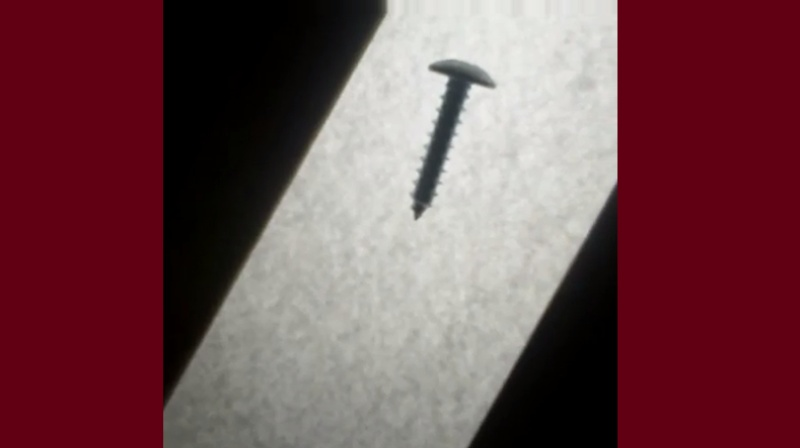S003: (406, 55, 498, 226)
